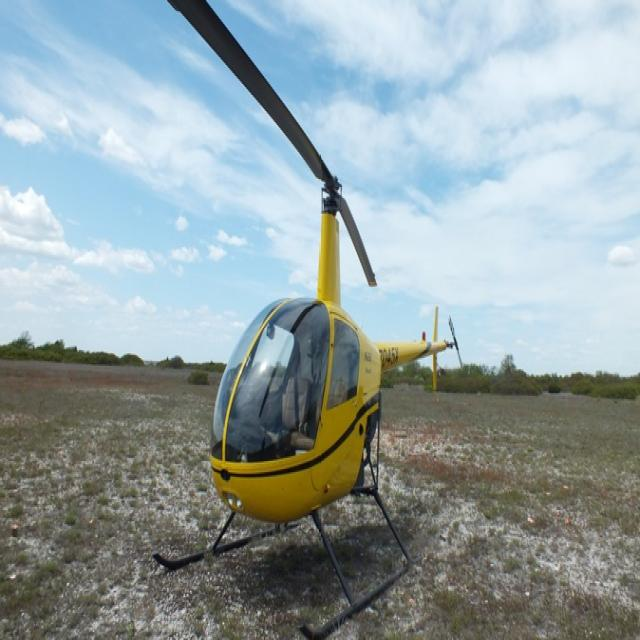helicopter: (167, 1, 466, 640)
